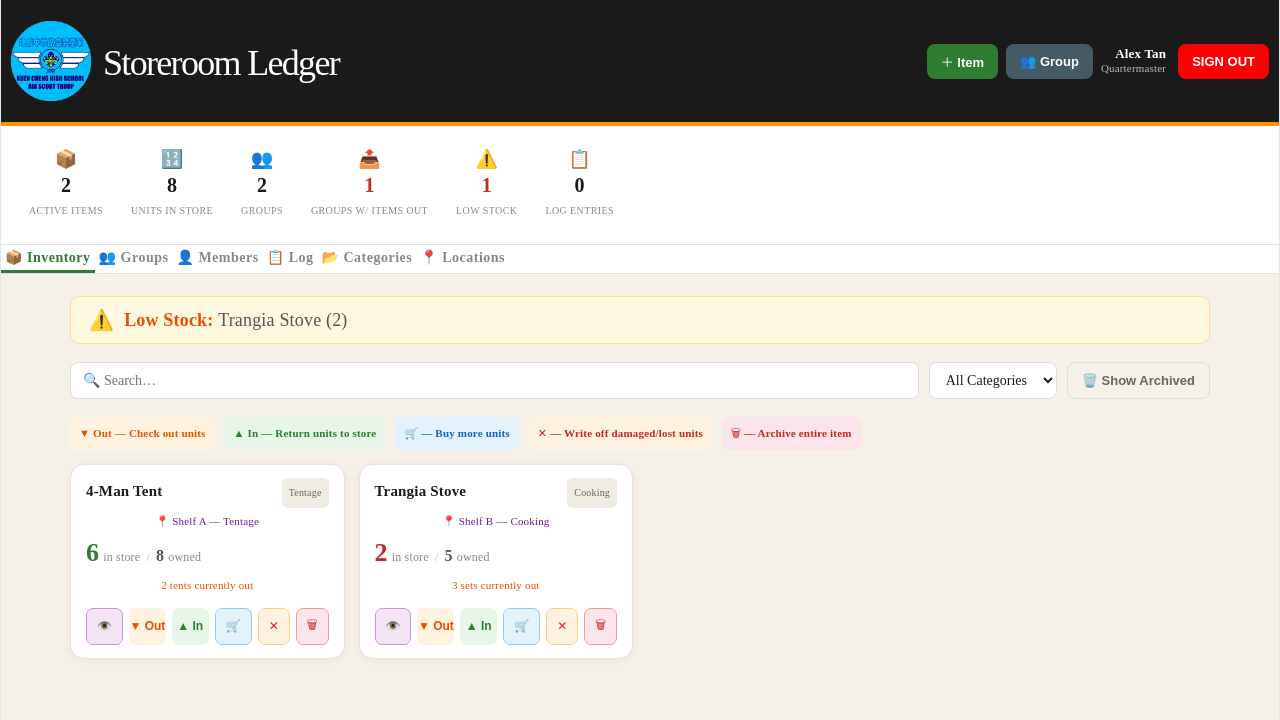
Test: inventory card opens the right modal › opens Buy More
The image size is (1280, 720).
Expected: the heading "4-Man Tent" is shown, [86, 478, 162, 504]
Click the button titled "buy more units" below "tents" at coordinates (233, 626), box [215, 608, 252, 645]
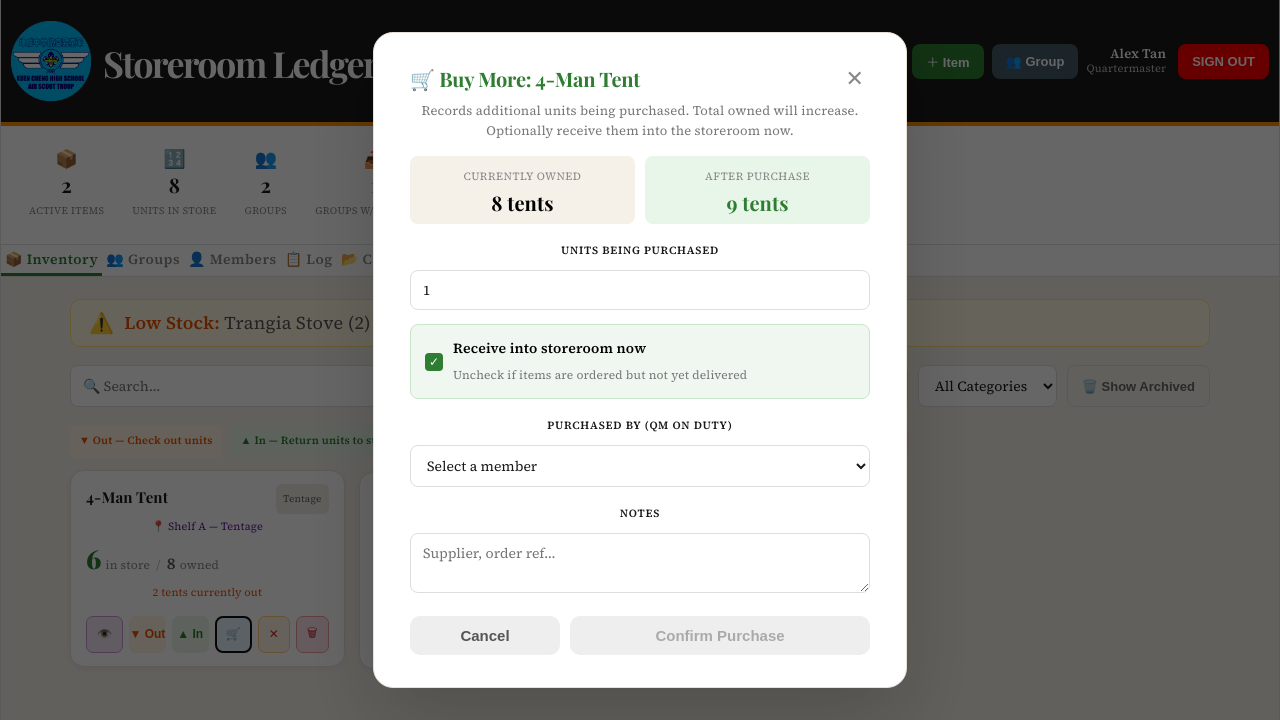
Expected: the heading "🛒 Buy More: 4-Man Tent" is shown, [410, 67, 640, 91]
